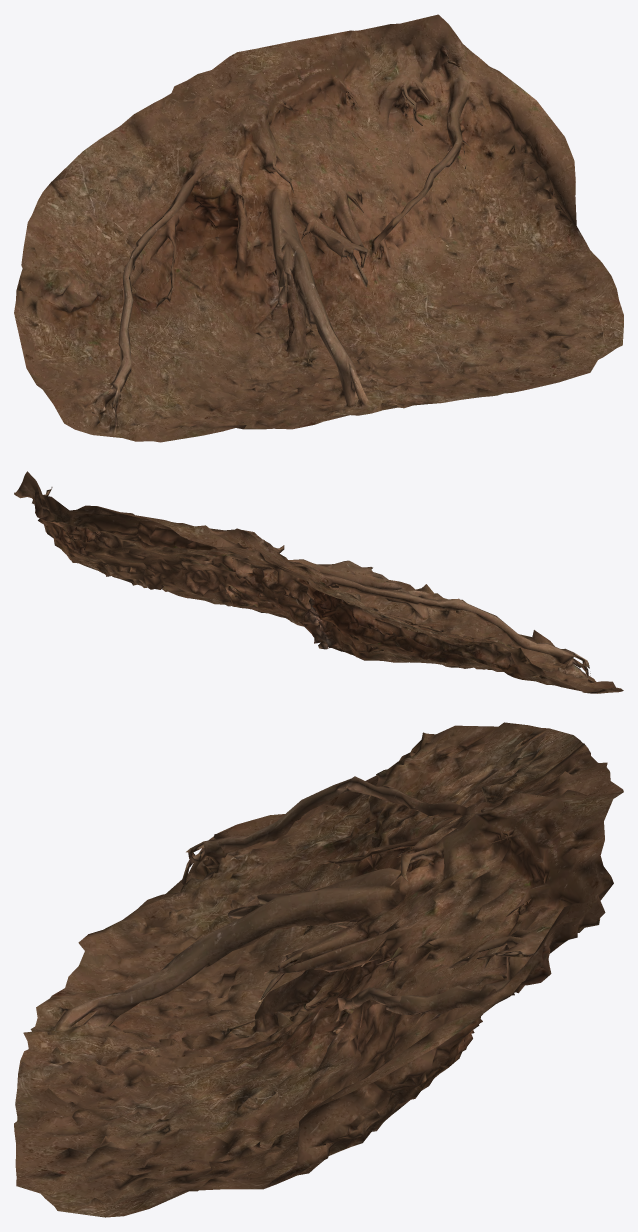
Rendered from roots.glb.
3 views of the same model, one above another, from view 1: azimuth 30°, elevation 25°; view 2: azimuth 150°, elevation 25°; view 3: azimuth 270°, elevation 25° (orthographic). The views are drawn at different scales.
Parts seen in each view (by area): view 1: root_cluster_01; view 2: root_cluster_01; view 3: root_cluster_01.
Boxes of the visible parts, x1,y1,x2,y2 form: root_cluster_01: (14, 14, 623, 442); root_cluster_01: (14, 471, 623, 693); root_cluster_01: (14, 722, 623, 1217).
Size of the model in its own units: 4.12 by 1.51 by 2.68.
Materials: 1 (1 with a texture image).
